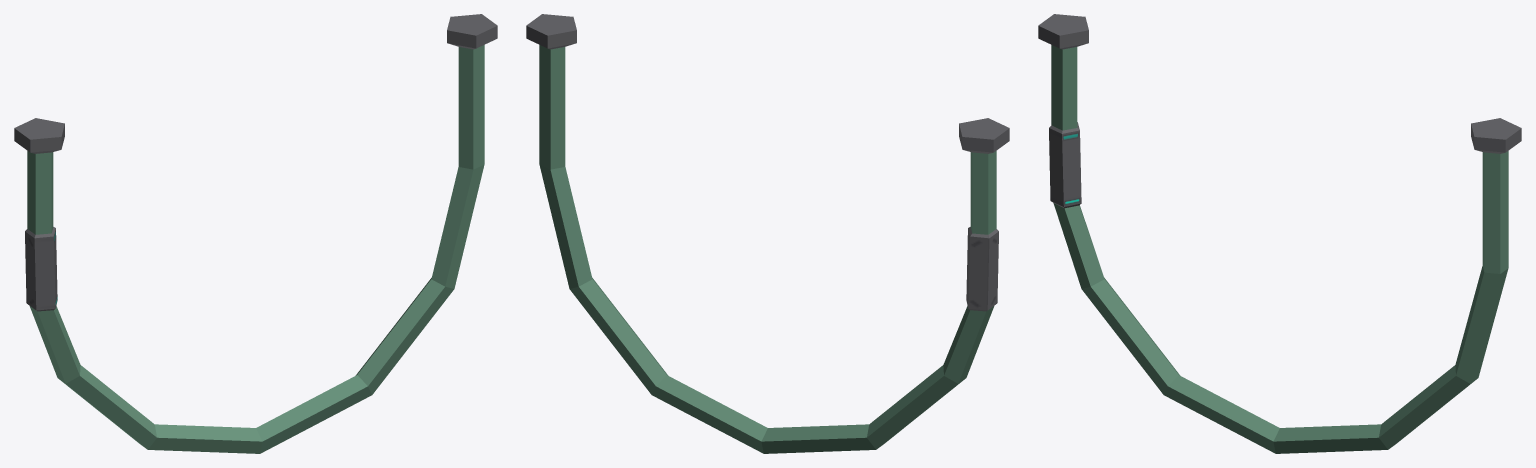
Rendered from SM_Prop_Wires_04.fbx.
3 views of the same model, side by side, from view 1: azimuth 30°, elevation 25°; view 2: azimuth 150°, elevation 25°; view 3: azimuth 330°, elevation 25° (orthographic).
Visible parts, largest first — view 1: SM_Prop_Wires_04; view 2: SM_Prop_Wires_04; view 3: SM_Prop_Wires_04.
Boxes of the visible parts, x1,y1,x2,y2 form: SM_Prop_Wires_04: [14, 14, 497, 453]; SM_Prop_Wires_04: [526, 14, 1009, 453]; SM_Prop_Wires_04: [1038, 14, 1521, 453].
Bounding box in the file's own units: 65.38 × 49.98 × 6.25.
